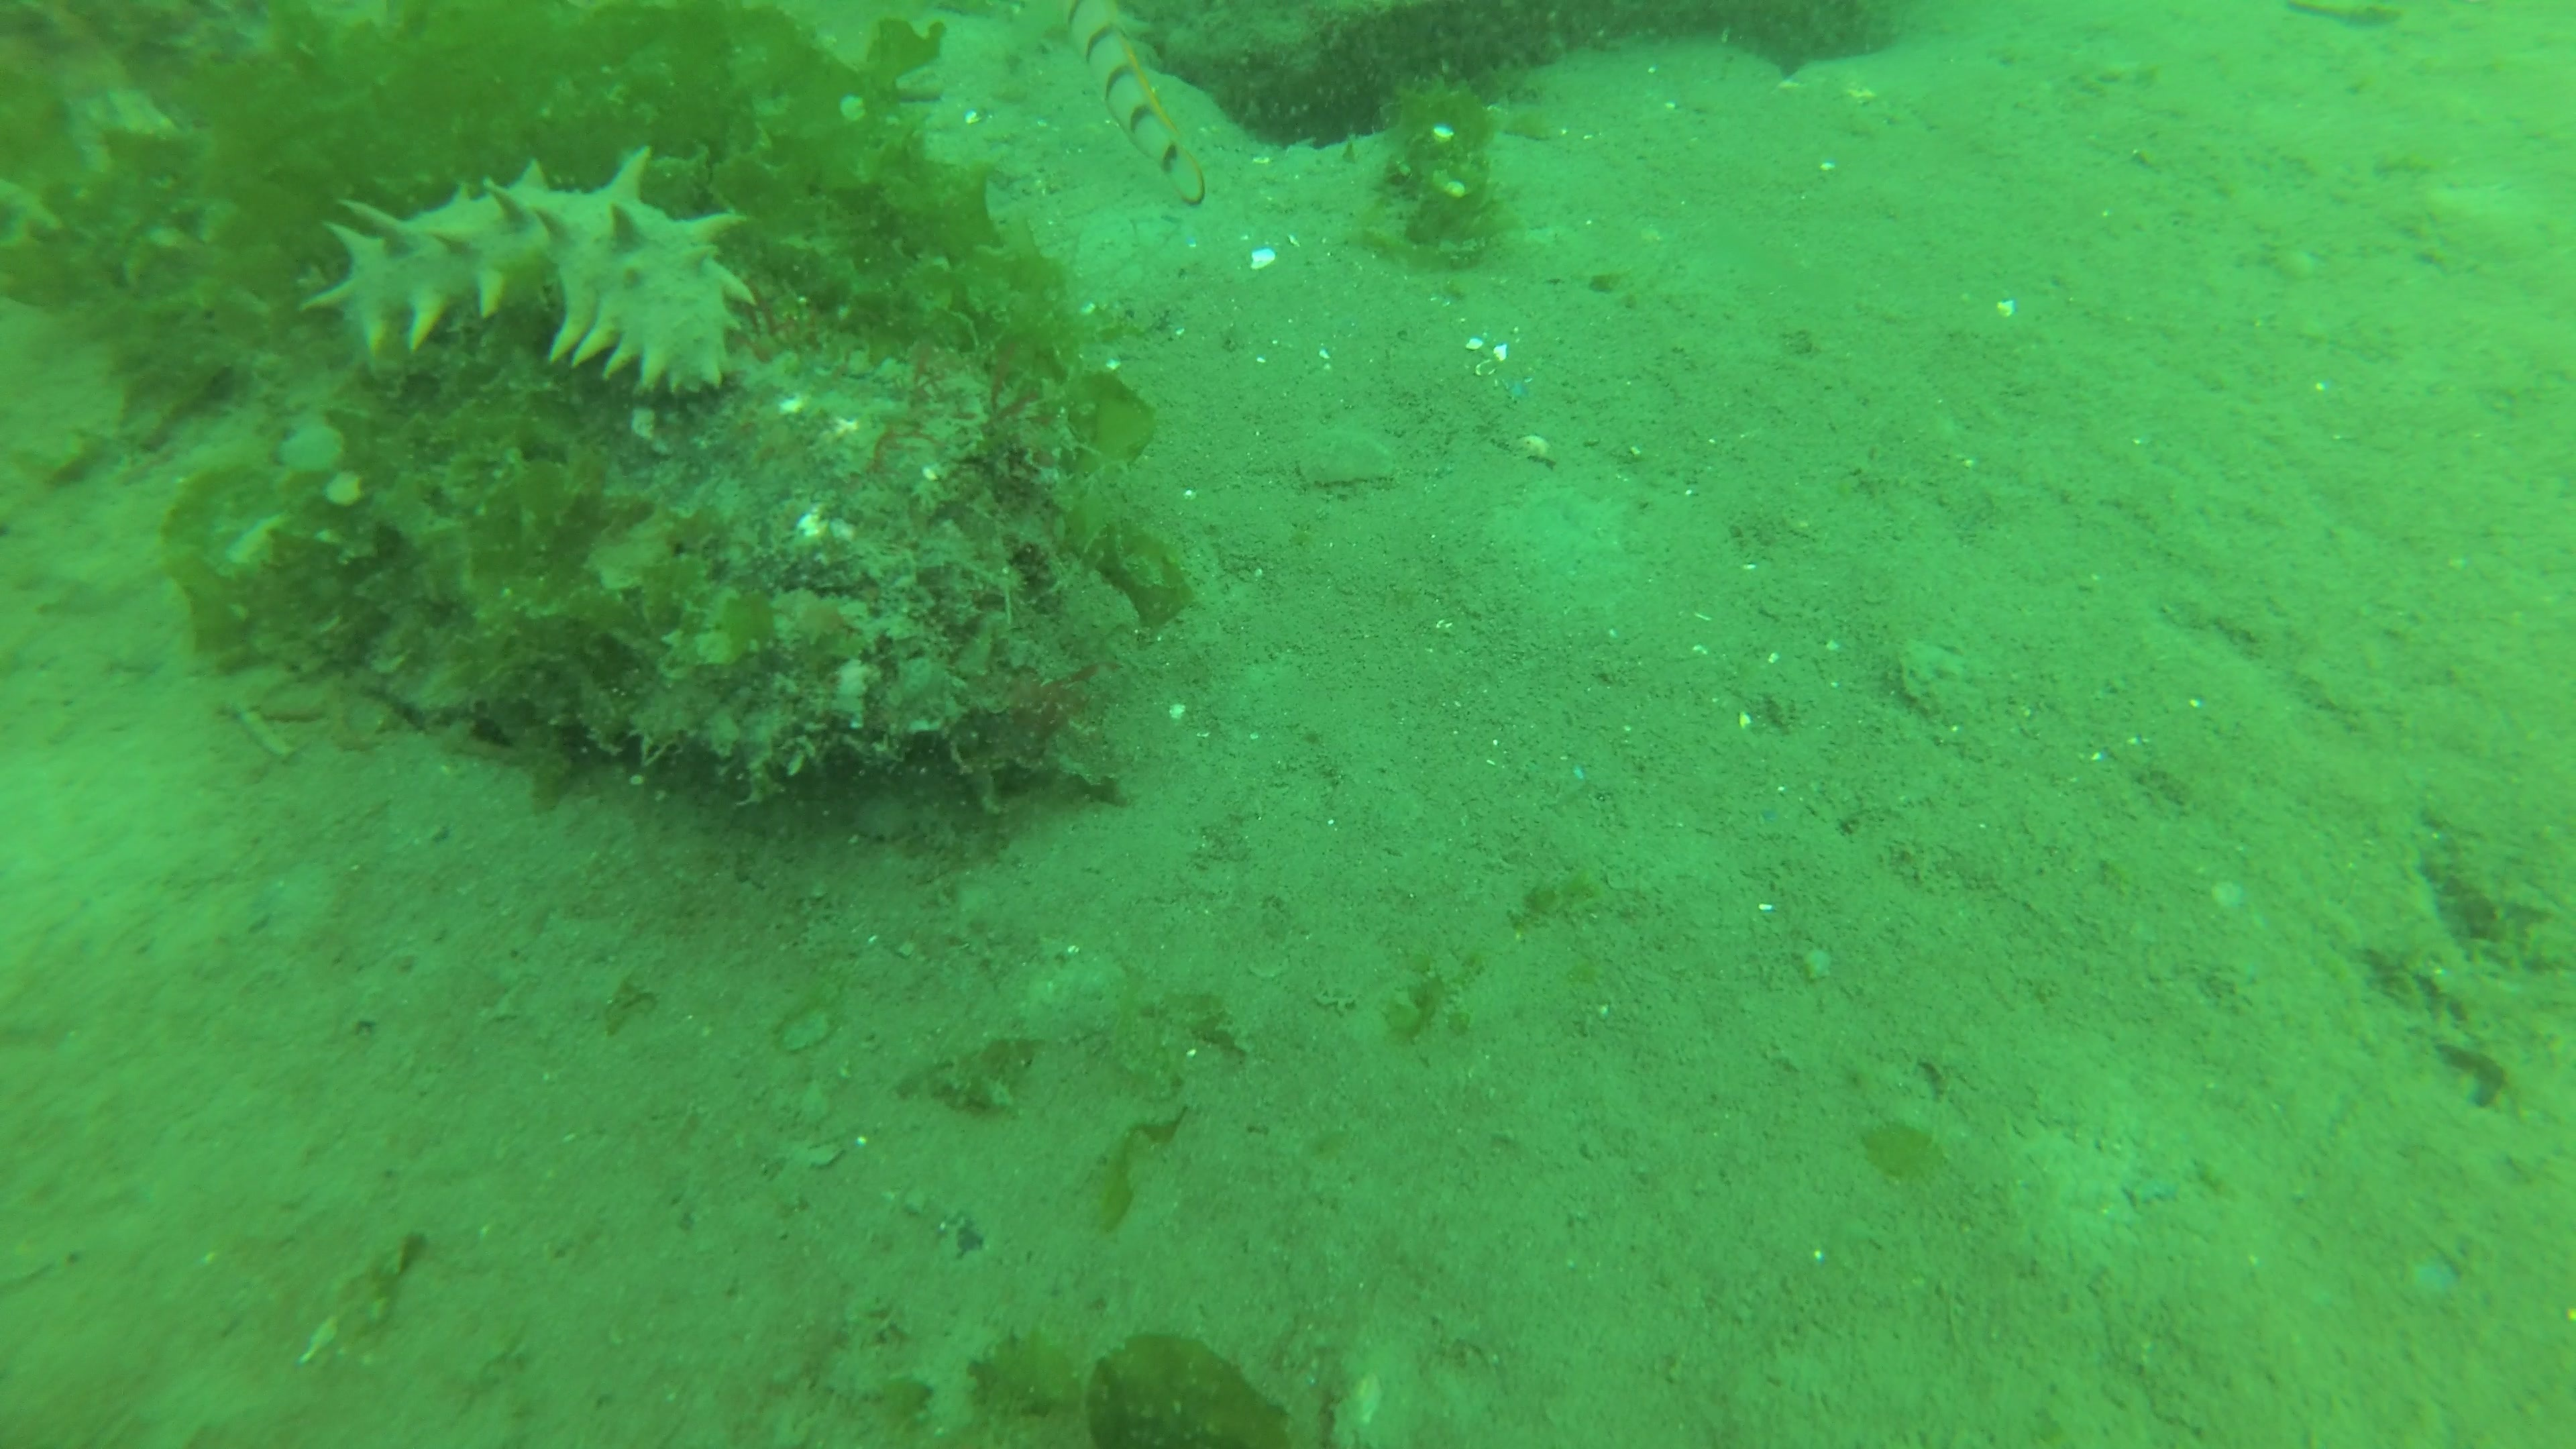holothurian: (295, 149, 761, 400)
